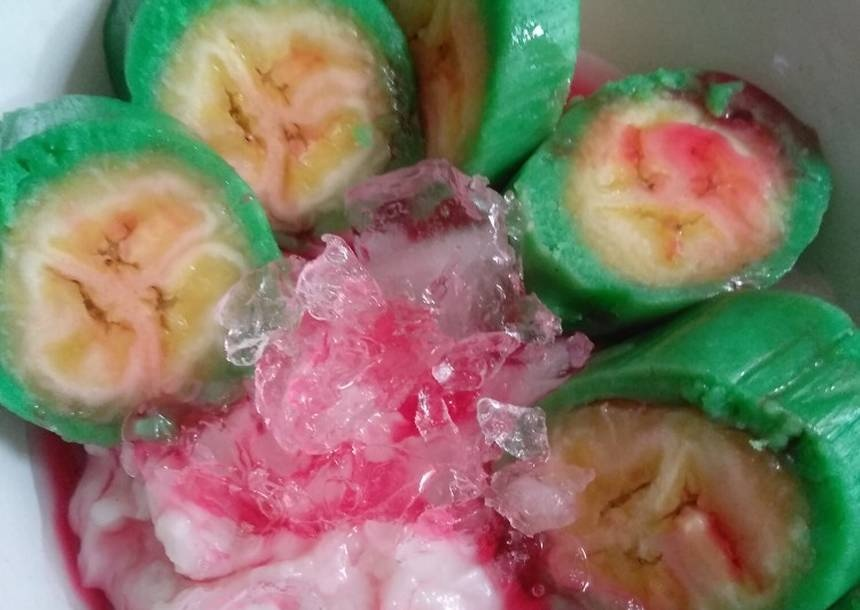pisang_ijo: (525, 55, 821, 315)
